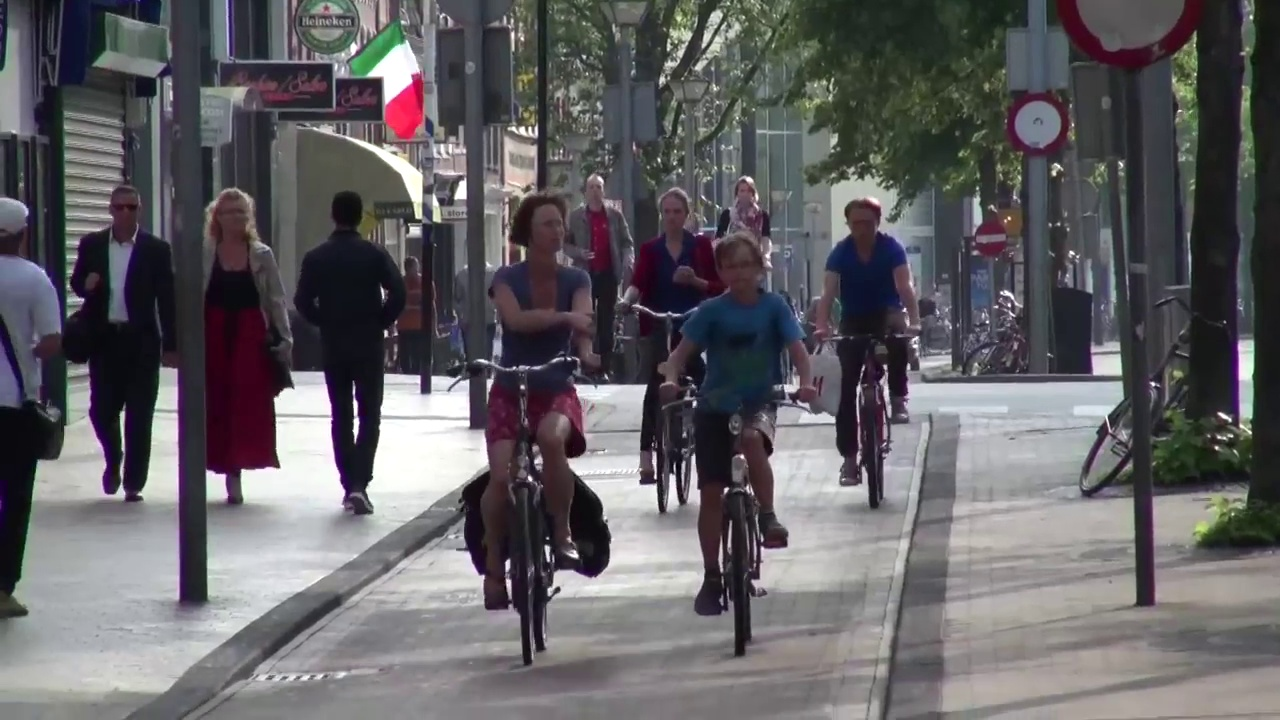cyclist_front: (471, 192, 610, 660), (668, 245, 787, 662), (824, 193, 915, 504), (628, 191, 702, 510)
